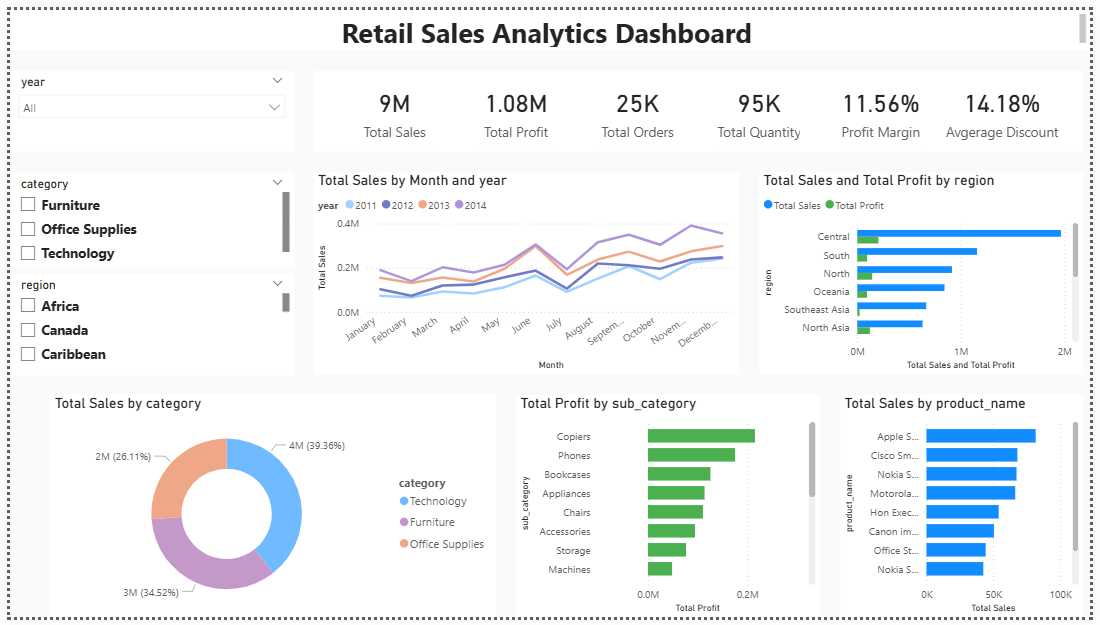

Layout of this report page (visuals, bound fields, positions):
{"tool":"powerbi","page":{"name":"Page 1","canvas":[1280,720],"ordinal":0},"visuals":[{"type":"textbox","box":[0,0,1280,48],"z":0},{"type":"card","fields":{"Values":["SuperStoreOrders.Total Sales"]},"box":[360,72,192,96],"z":1000},{"type":"card","fields":{"Values":["SuperStoreOrders.Total Profit"]},"box":[504,72,192,96],"z":2000},{"type":"card","fields":{"Values":["SuperStoreOrders.Total Orders"]},"box":[648,72,192,96],"z":3000},{"type":"card","fields":{"Values":["SuperStoreOrders.Total Quantity"]},"box":[792,72,192,96],"z":4000},{"type":"card","fields":{"Values":["SuperStoreOrders.Profit Margin KPI"]},"box":[936,72,192,96],"z":5000},{"type":"card","fields":{"Values":["SuperStoreOrders.Avgerage Discount"]},"box":[1080,72,192,96],"z":6000},{"type":"lineChart","fields":{"Series":["SuperStoreOrders.year"],"Category":["SuperStoreOrders.Month"],"Y":["SuperStoreOrders.Total Sales"]},"box":[360,192,504,240],"z":7000},{"type":"clusteredBarChart","fields":{"Category":["SuperStoreOrders.region"],"Y":["SuperStoreOrders.Total Sales","SuperStoreOrders.Total Profit"]},"box":[888,192,384,240],"z":8000},{"type":"clusteredBarChart","fields":{"Category":["SuperStoreOrders.product_name"],"Y":["SuperStoreOrders.Total Sales"]},"box":[984,456,288,264],"z":9000},{"type":"donutChart","fields":{"Category":["SuperStoreOrders.category"],"Y":["SuperStoreOrders.Total Sales"]},"box":[48,456,528,264],"z":10000},{"type":"clusteredBarChart","fields":{"Category":["SuperStoreOrders.sub_category"],"Y":["SuperStoreOrders.Total Profit"]},"box":[600,456,360,264],"z":11000},{"type":"slicer","fields":{"Values":["SuperStoreOrders.year"]},"box":[0,72,336,96],"z":12000},{"type":"slicer","fields":{"Values":["SuperStoreOrders.region"]},"box":[0,312,336,120],"z":13000},{"type":"slicer","fields":{"Values":["SuperStoreOrders.category"]},"box":[0,192,336,112],"z":14000}]}

Visuals, with their boxes in screenshot pixels (x1, y1, x2, y2), scaled from the page's 1280x720 canvas onto the 1100x625 screenshot:
textbox: select_region(0, 0, 1099, 42)
card - SuperStoreOrders.Total Sales: select_region(309, 62, 474, 146)
card - SuperStoreOrders.Total Profit: select_region(433, 62, 598, 146)
card - SuperStoreOrders.Total Orders: select_region(557, 62, 722, 146)
card - SuperStoreOrders.Total Quantity: select_region(681, 62, 846, 146)
card - SuperStoreOrders.Profit Margin KPI: select_region(804, 62, 969, 146)
card - SuperStoreOrders.Avgerage Discount: select_region(928, 62, 1093, 146)
lineChart - SuperStoreOrders.year x SuperStoreOrders.Month: select_region(309, 167, 742, 375)
clusteredBarChart - SuperStoreOrders.region x SuperStoreOrders.Total Sales: select_region(763, 167, 1093, 375)
clusteredBarChart - SuperStoreOrders.product_name x SuperStoreOrders.Total Sales: select_region(846, 396, 1093, 624)
donutChart - SuperStoreOrders.category x SuperStoreOrders.Total Sales: select_region(41, 396, 495, 624)
clusteredBarChart - SuperStoreOrders.sub_category x SuperStoreOrders.Total Profit: select_region(516, 396, 825, 624)
slicer - SuperStoreOrders.year: select_region(0, 62, 289, 146)
slicer - SuperStoreOrders.region: select_region(0, 271, 289, 375)
slicer - SuperStoreOrders.category: select_region(0, 167, 289, 264)
